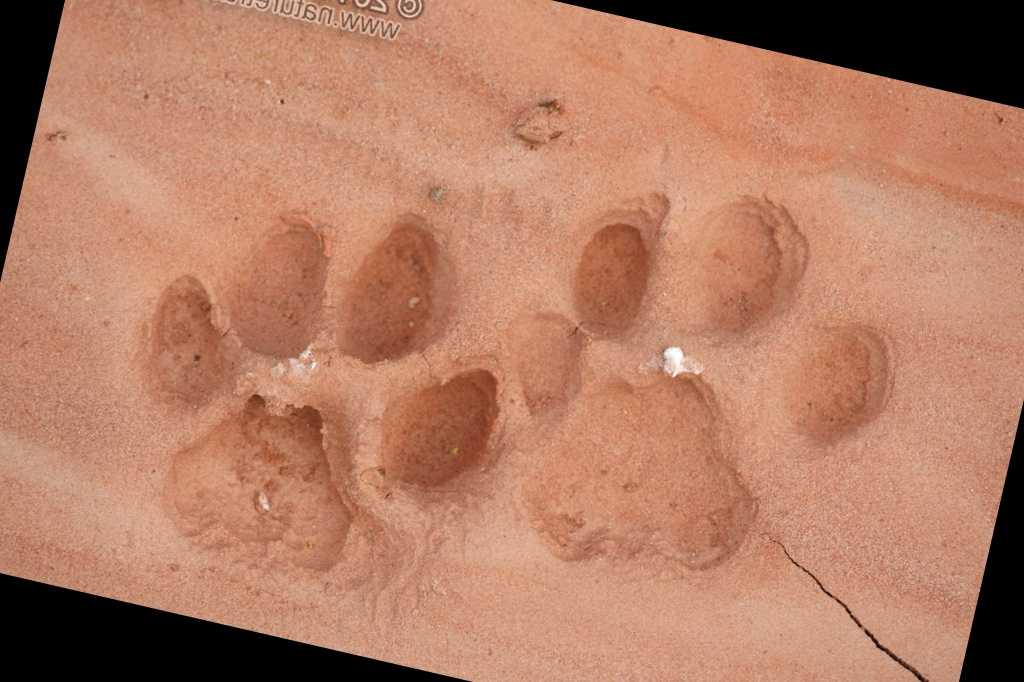lynx: (455, 130, 960, 662), (75, 154, 545, 640)
